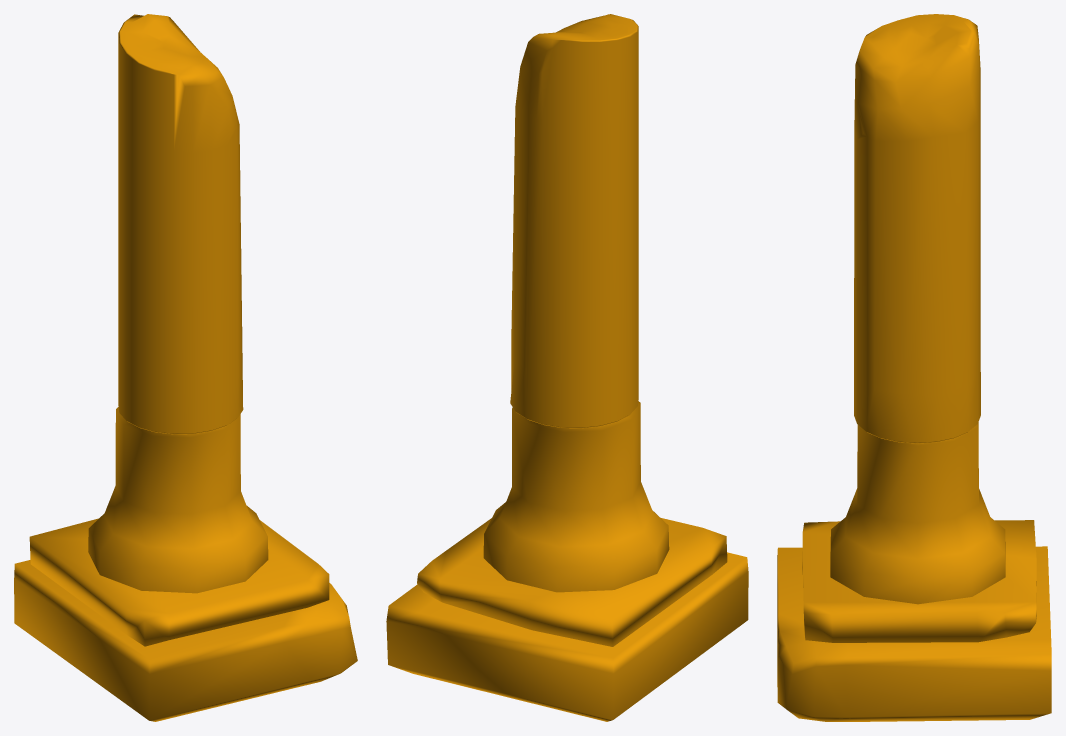
Rendered from Pillar_03_Lod1.fbx.
The picture shows the model from 3 angles, left to right: view 1: azimuth 30°, elevation 25°; view 2: azimuth 150°, elevation 25°; view 3: azimuth 270°, elevation 25°; orthographic projection. The views are drawn at different scales.
Visible parts, largest first — view 1: Pillar_03_Lod1; view 2: Pillar_03_Lod1; view 3: Pillar_03_Lod1.
Boxes of the visible parts, box(x1,y1,x2,y2) form: Pillar_03_Lod1: box(14, 14, 357, 721); Pillar_03_Lod1: box(386, 14, 748, 721); Pillar_03_Lod1: box(777, 14, 1051, 721).
Bounding box in the file's own units: 563 × 1521 × 594.
